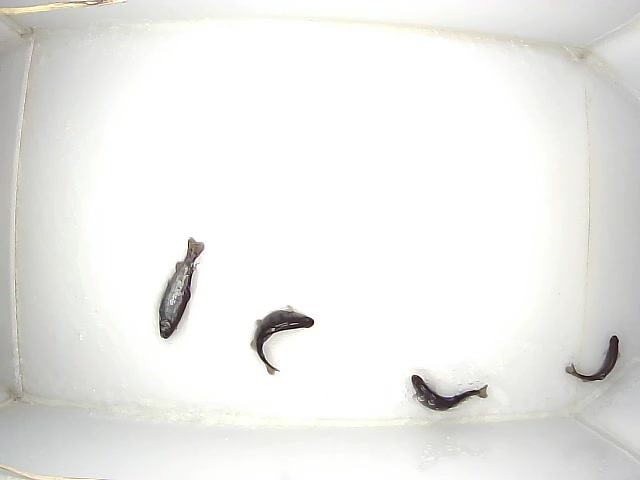fish: (159, 237, 205, 339), (250, 305, 314, 375), (411, 374, 488, 412), (565, 335, 621, 382)
